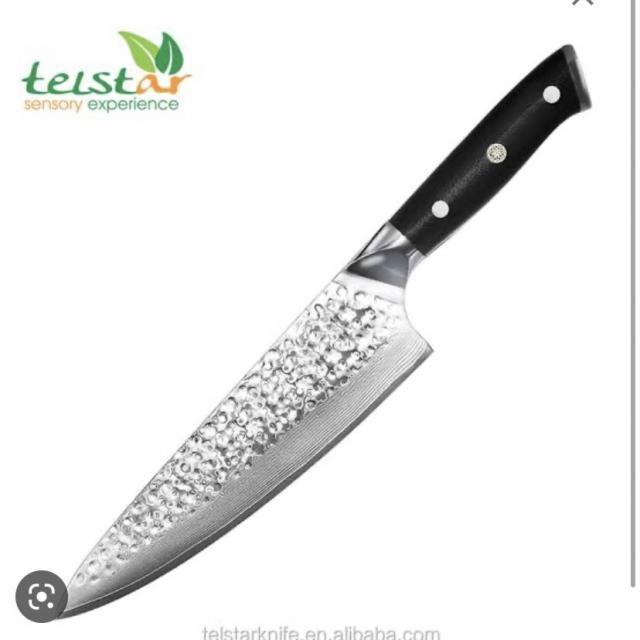Knife: (59, 40, 623, 622)
